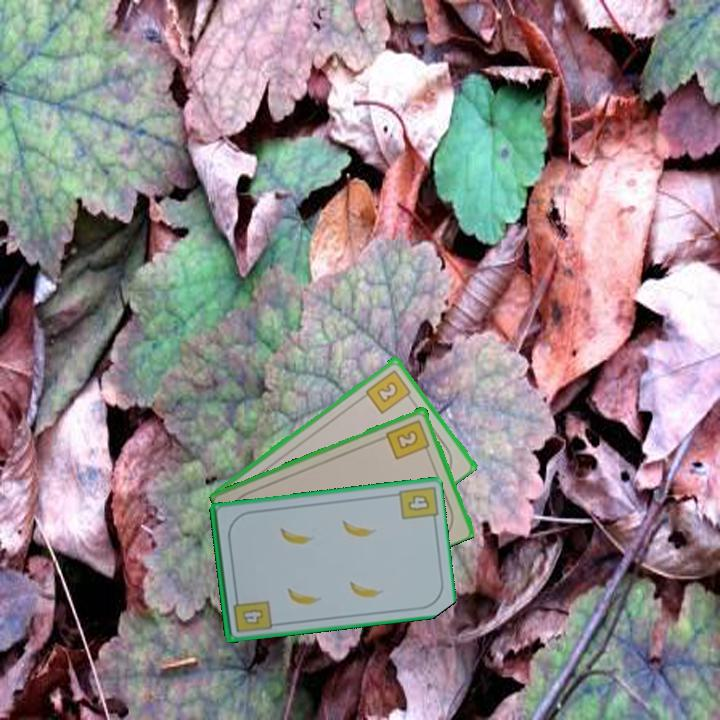2b: (362, 366, 416, 416), (383, 416, 433, 462)
4b: (229, 591, 274, 636), (405, 491, 433, 514)
